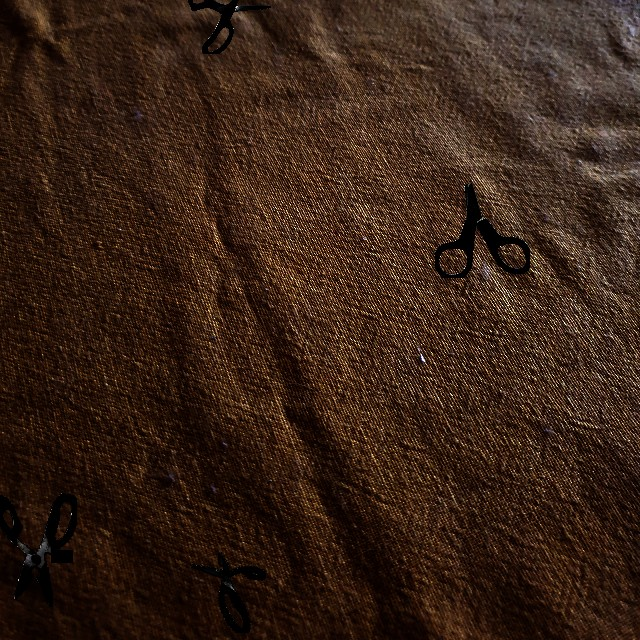scissors: (435, 183, 530, 278), (0, 493, 77, 607), (190, 551, 266, 633), (188, 0, 271, 54)
